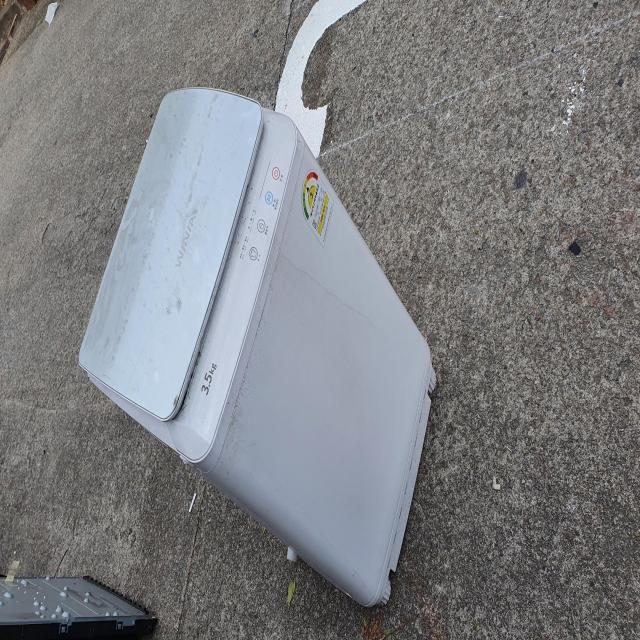refrigerator: (75, 83, 439, 612)
